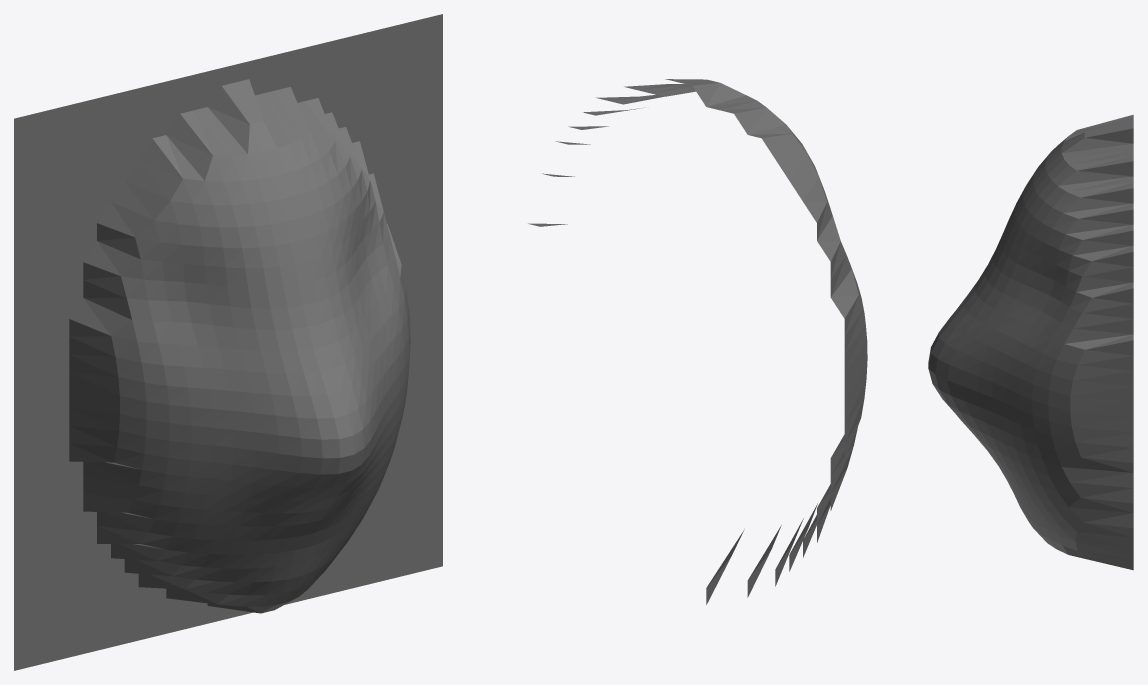
The picture shows the model from 3 angles, left to right: view 1: azimuth 30°, elevation 25°; view 2: azimuth 150°, elevation 25°; view 3: azimuth 270°, elevation 25°; orthographic projection. The views are drawn at different scales.
Parts seen in each view (by area): view 1: world; view 2: world; view 3: world.
Boxes of the visible parts, box(x1,y1,x2,y2) form: world: box(14, 14, 442, 670); world: box(528, 79, 867, 604); world: box(928, 114, 1133, 570).
Size of the model in its own units: 1.3 by 1.6 by 0.6248.
1 material, 1 textured.
